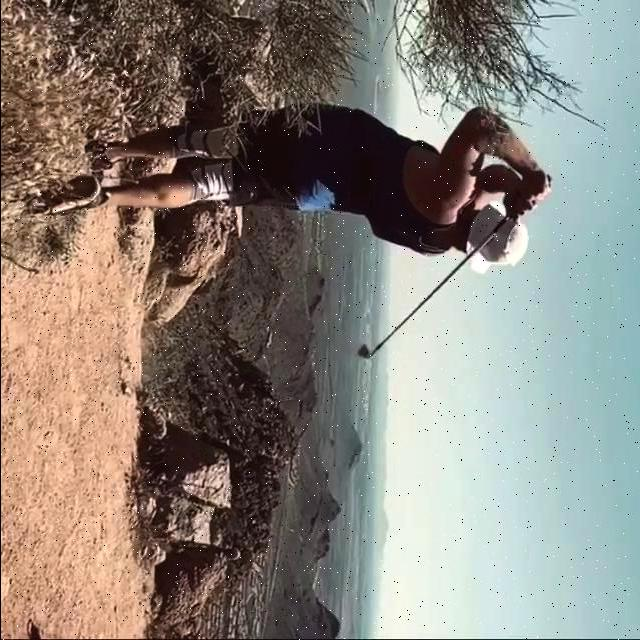golf club-handle: (357, 176, 551, 359)
golf club-head: (357, 345, 369, 359)
